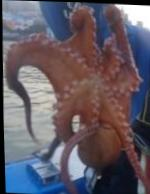Cephalopod: (5, 2, 149, 194)
